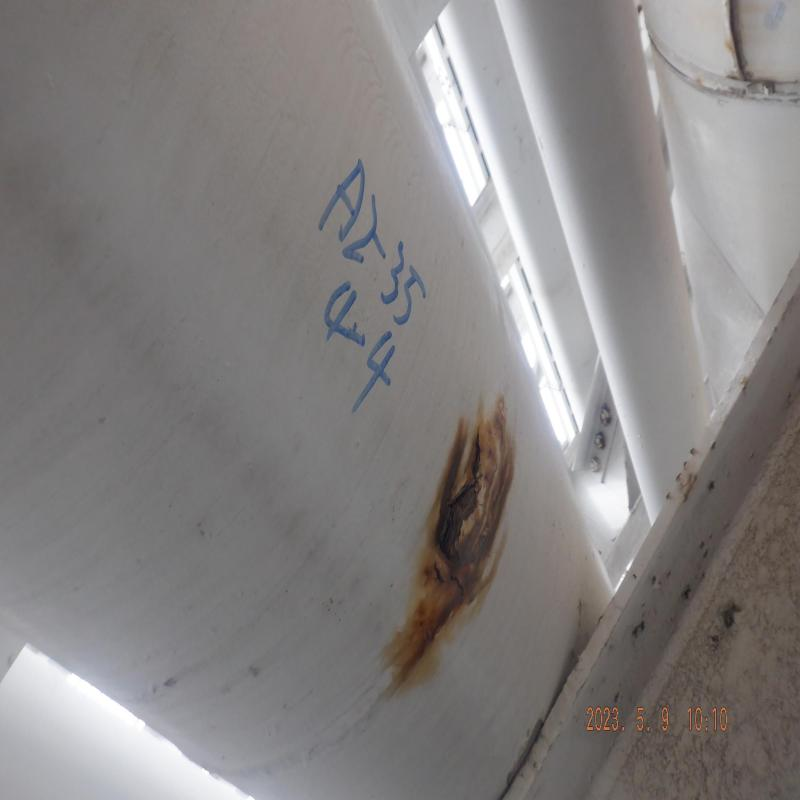corrosion: (434, 424, 495, 670)
